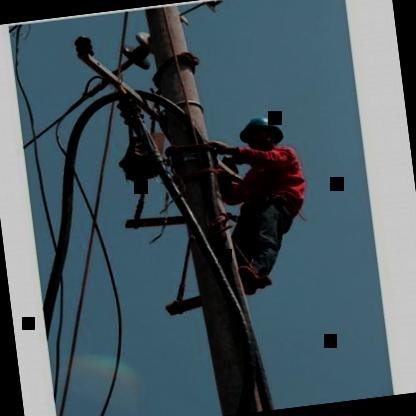helmet: (233, 109, 290, 156)
